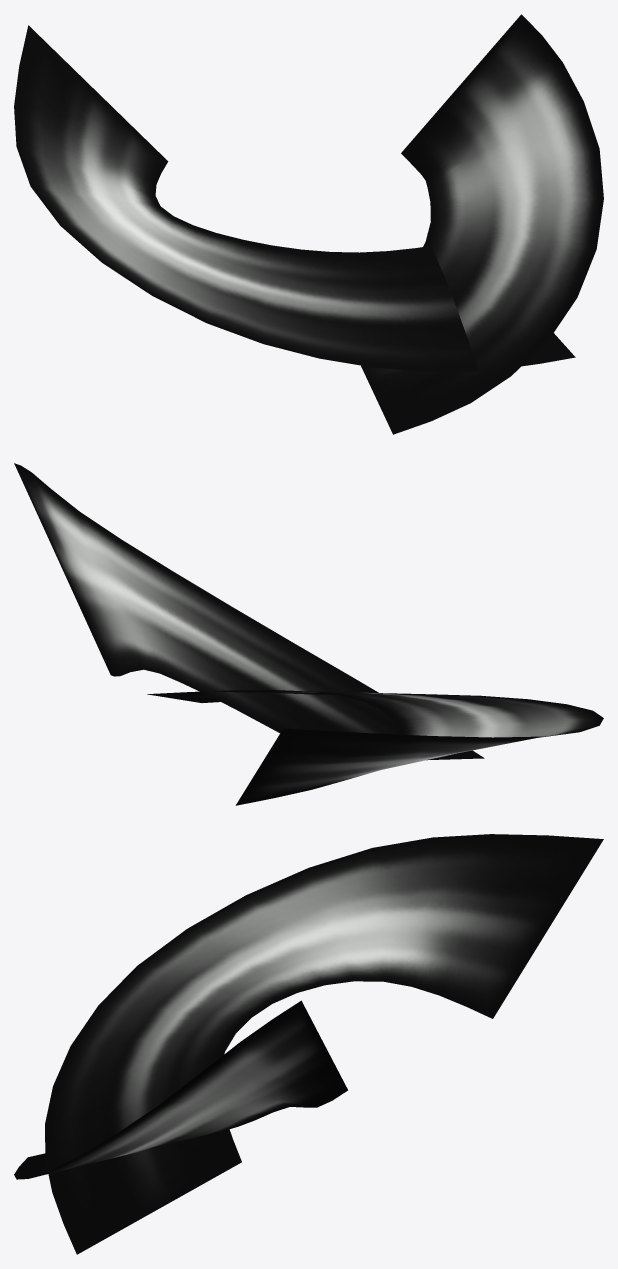
Rendered from effect_bulianshi_1.FBX.
3 renders of one model, top to bottom at view 1: azimuth 30°, elevation 25°; view 2: azimuth 150°, elevation 25°; view 3: azimuth 270°, elevation 25°, orthographic. The views are drawn at different scales.
Visible parts, largest first — view 1: effect_bulianshi_2, effect_bulianshi_1; view 2: effect_bulianshi_1, effect_bulianshi_2; view 3: effect_bulianshi_2, effect_bulianshi_1.
Boxes of the visible parts, x1,y1,x2,y2 form: effect_bulianshi_2: (14,25,575,371); effect_bulianshi_1: (361,14,603,434); effect_bulianshi_1: (14,463,484,760); effect_bulianshi_2: (147,690,603,805); effect_bulianshi_2: (45,834,603,1254); effect_bulianshi_1: (14,1000,347,1179).
Size of the model in its own units: 218 by 117 by 214.
1 material, 1 textured.
